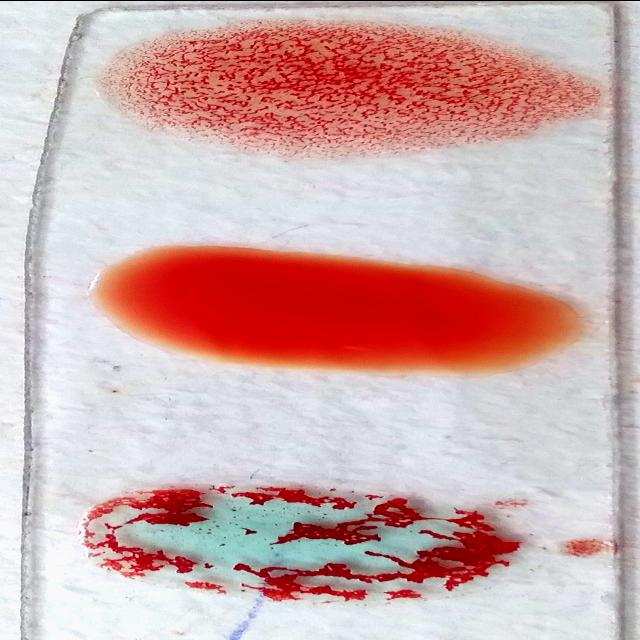A: (77, 483, 522, 602)
D: (113, 23, 589, 144)
